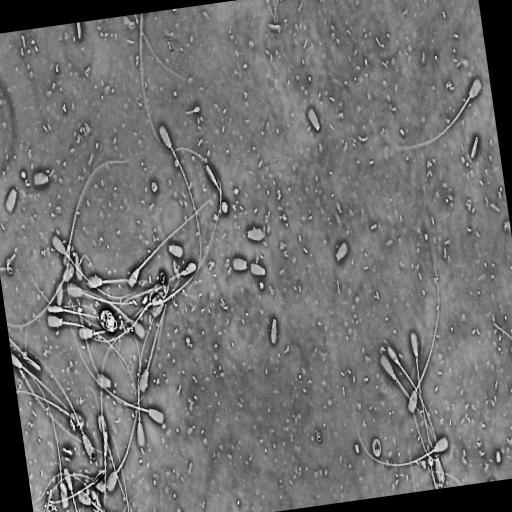dirt-particles: (98, 306, 119, 337), (371, 435, 382, 459), (157, 269, 166, 285), (220, 200, 229, 216), (150, 179, 159, 194)
loose-head: (306, 105, 321, 132), (334, 240, 350, 264), (4, 187, 17, 215), (167, 241, 185, 260), (31, 170, 49, 187), (246, 226, 265, 242), (249, 261, 266, 278), (231, 256, 248, 273), (270, 316, 278, 347)
normal: (69, 322, 167, 427), (46, 313, 139, 422), (126, 193, 214, 290), (385, 341, 441, 488), (62, 159, 135, 269), (158, 120, 203, 290), (393, 76, 483, 155), (51, 234, 145, 300), (138, 273, 188, 397), (407, 255, 441, 415), (377, 350, 436, 442), (409, 329, 440, 488), (354, 422, 451, 468), (136, 303, 164, 451)
proximal-droplet: (392, 373, 396, 380)
